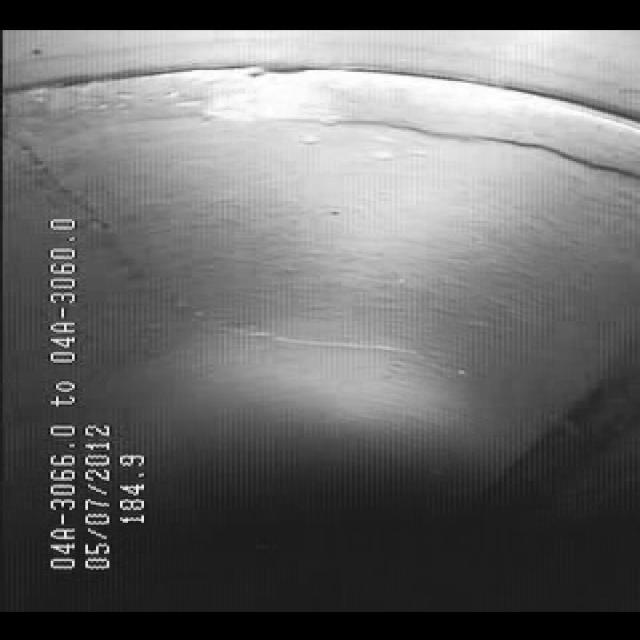Crack: (116, 265, 414, 359)
